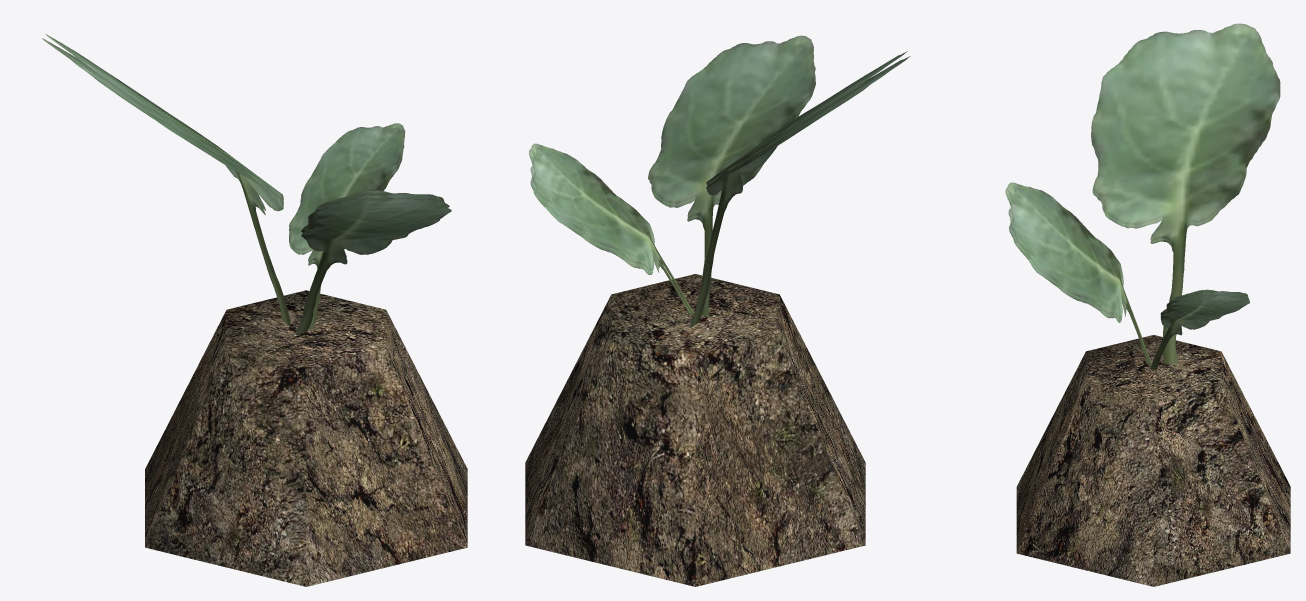
The model's file is GS_NATURE_CABBAGE_01_GALI.glb.
3 views of the same model, side by side, from view 1: azimuth 30°, elevation 25°; view 2: azimuth 150°, elevation 25°; view 3: azimuth 270°, elevation 25° (orthographic). The views are drawn at different scales.
Parts seen in each view (by area): view 1: Mesh; view 2: Mesh; view 3: Mesh.
Boxes of the visible parts, x1,y1,x2,y2 form: Mesh: [42, 34, 467, 586]; Mesh: [525, 35, 910, 586]; Mesh: [1005, 23, 1290, 586].
Size of the model in its own units: 0.4109 by 0.5046 by 0.3246.
Materials: 2 (2 with a texture image).
